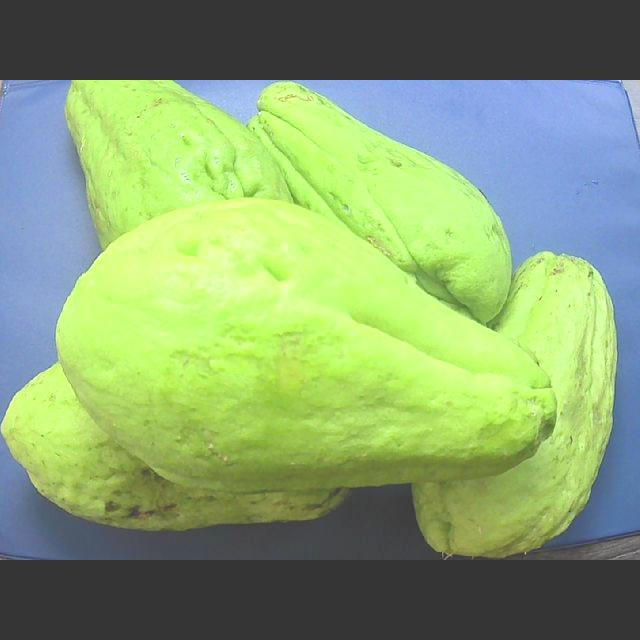chayote: (57, 198, 553, 491), (249, 81, 509, 322), (413, 252, 616, 557), (2, 363, 347, 530), (66, 80, 292, 248)
